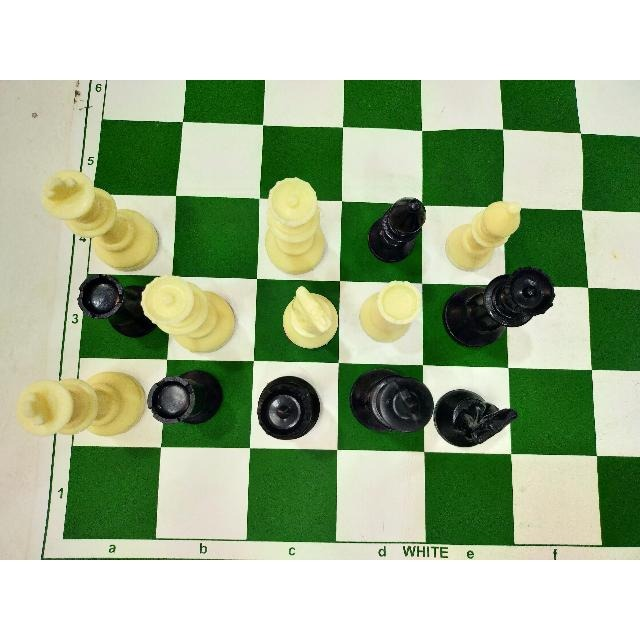black-bishop: (365, 196, 426, 266)
black-king: (349, 365, 433, 448)
black-knight: (434, 376, 519, 448)
black-queen: (439, 266, 557, 348), (249, 372, 328, 440)
black-rook: (74, 277, 157, 345), (148, 367, 224, 427), (357, 280, 421, 344)
white-bishop: (443, 196, 527, 272)
white-king: (44, 167, 161, 271), (22, 367, 146, 438)
white-knight: (275, 286, 341, 352)
white-queen: (140, 275, 238, 352), (262, 175, 332, 272)
